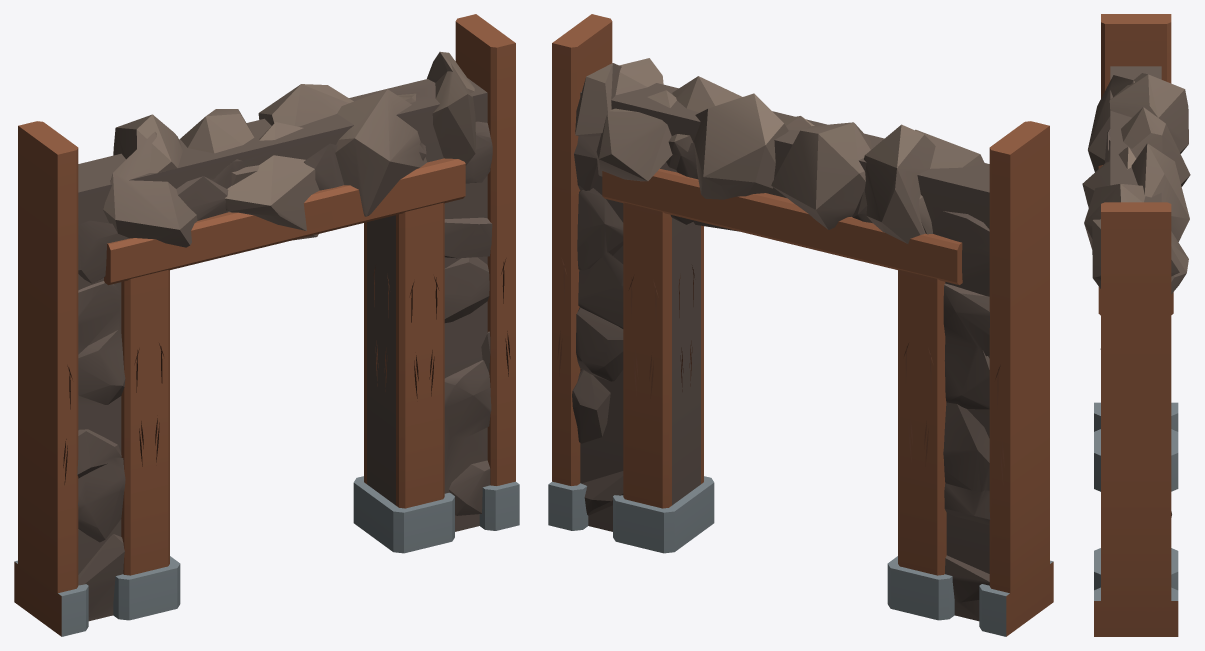
The model's file is wall_cave_doorway_B.glb.
3 renders of one model, left to right at view 1: azimuth 30°, elevation 25°; view 2: azimuth 150°, elevation 25°; view 3: azimuth 270°, elevation 25°, orthographic. The views are drawn at different scales.
Visible parts, largest first — view 1: Item; view 2: Item; view 3: Item.
Part boxes in pixels (left/top/right/bottom): Item: left=14, top=14, right=519, bottom=636; Item: left=548, top=14, right=1053, bottom=636; Item: left=1082, top=14, right=1190, bottom=636.
Size of the model in its own units: 4 by 4 by 0.9233.
Materials: 1 (1 with a texture image).
